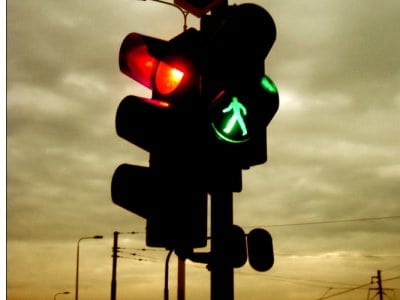trafficlight_green: (210, 15, 273, 144)
trafficlight_red: (112, 30, 196, 228)
